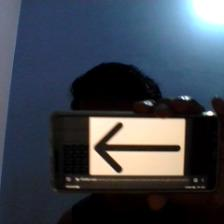left: (94, 121, 180, 174)
